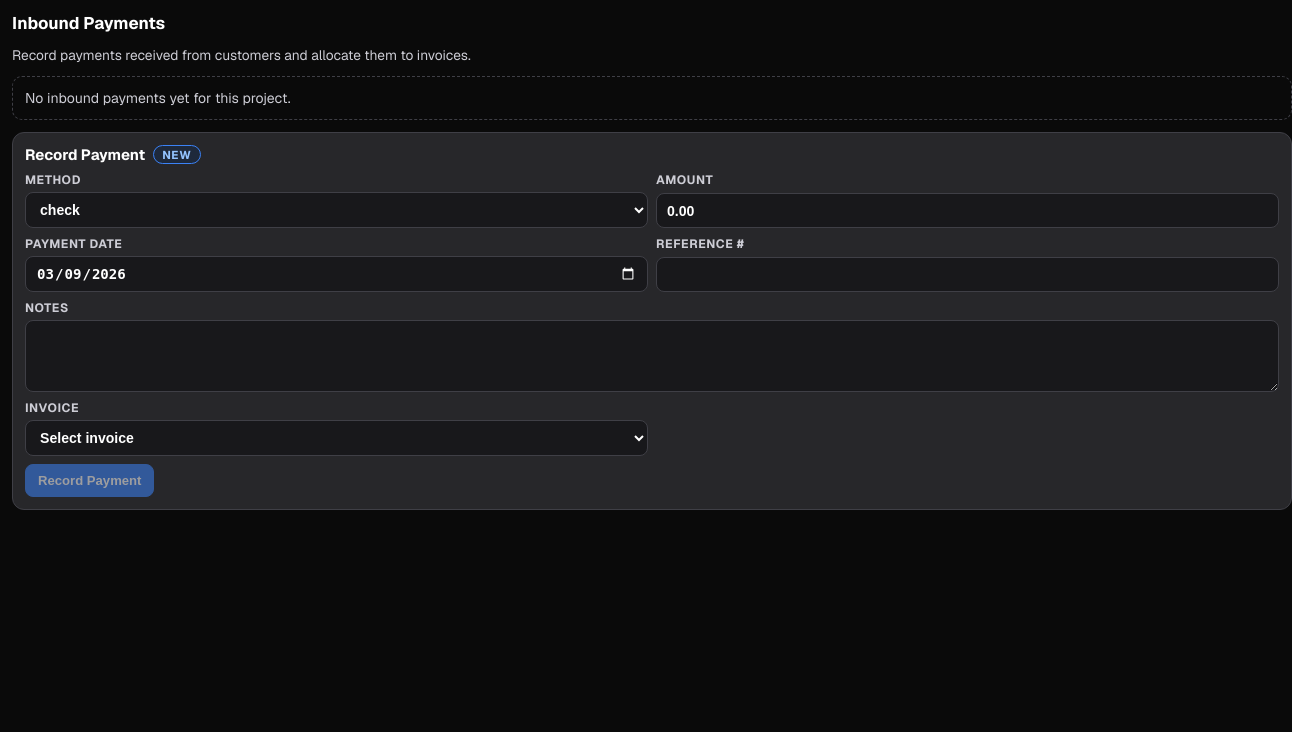
Scenario: PaymentRecorder › shows network error when create fetch rejects
Select a target so submit is enabled
Select "Invoice #100 (due $5000.00)" in the 2nd dropdown named "Select invoice" at (336, 438), box [25,420,648,456]
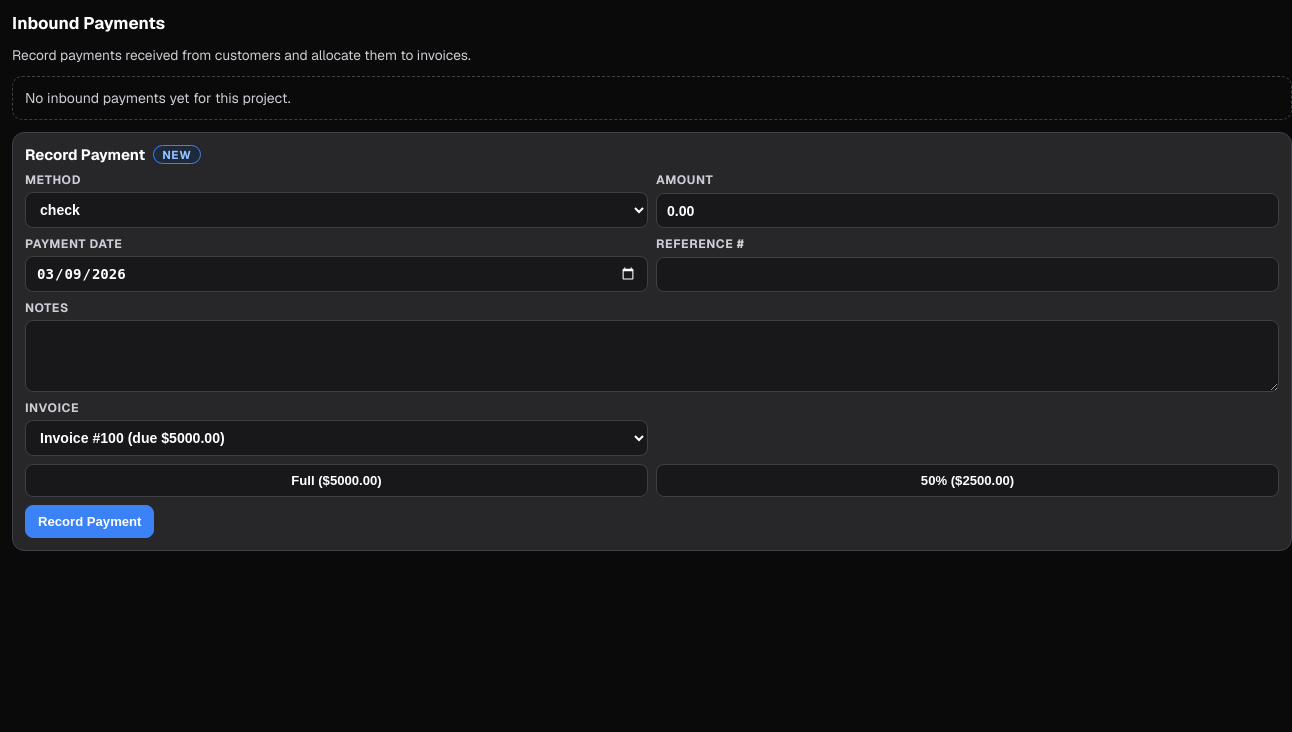
Submit the form "Record Payment", box [12,132,1291,551]
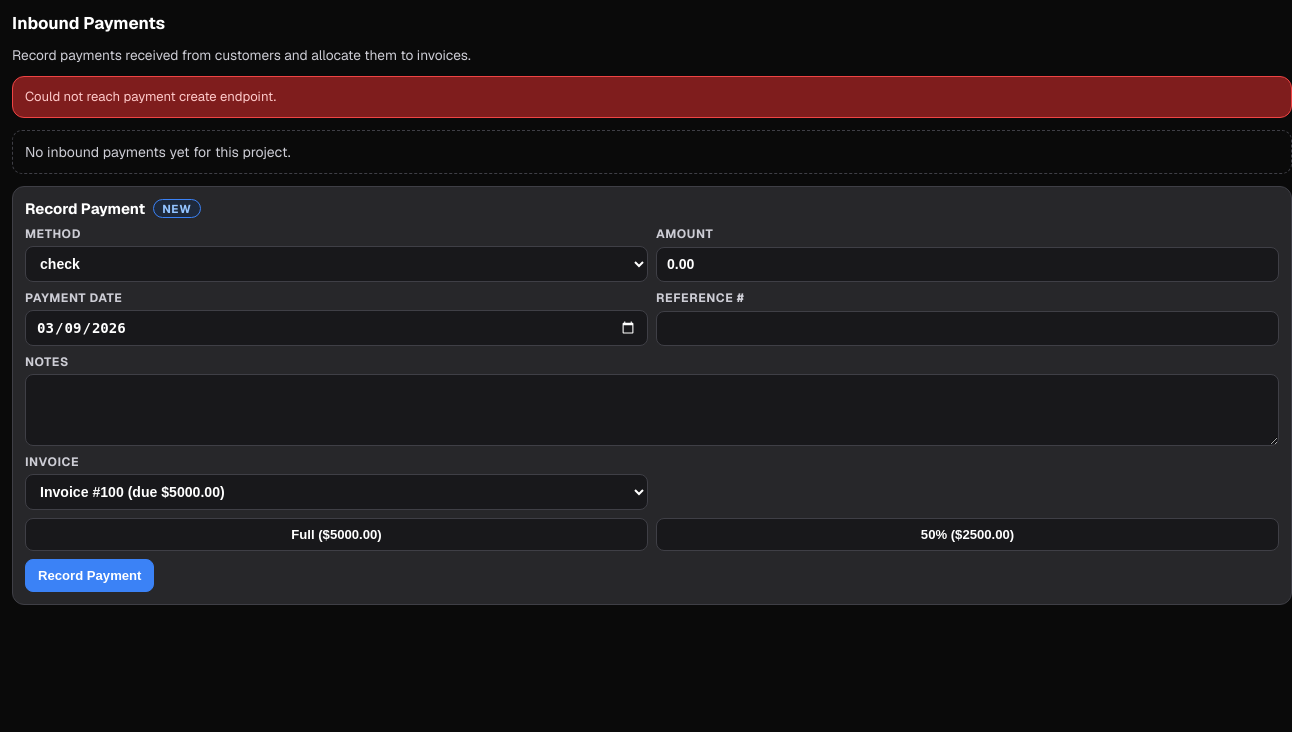
Expected: the text "Could not reach payment create endpoint." is shown, [12,76,1291,118]
